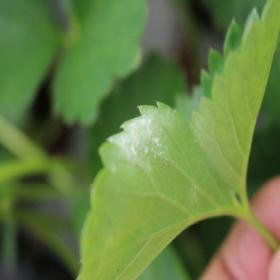Powdery Mildew Leaf: (74, 101, 245, 279)
